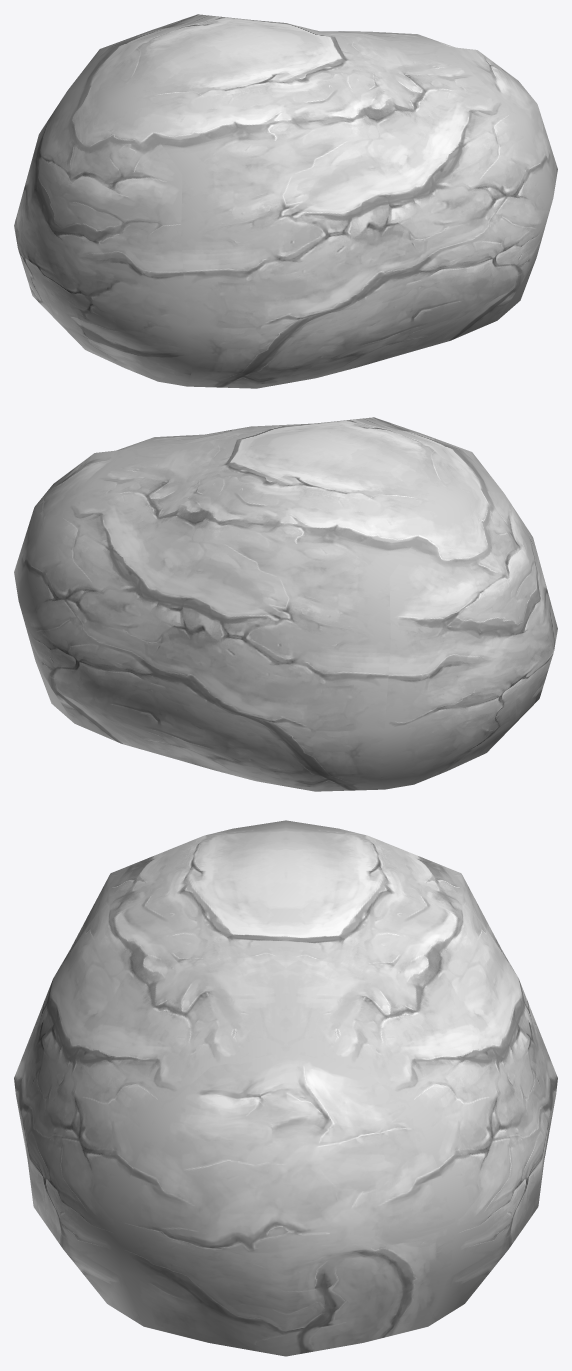
File: RockBig_A.fbx
3 views of the same model, one above another, from view 1: azimuth 30°, elevation 25°; view 2: azimuth 150°, elevation 25°; view 3: azimuth 270°, elevation 25° (orthographic). The views are drawn at different scales.
Visible parts, largest first — view 1: RockBig_A_LOD0; view 2: RockBig_A_LOD0; view 3: RockBig_A_LOD0.
Part boxes in pixels (x1=…): RockBig_A_LOD0: x1=14, y1=14, x2=557, y2=388; RockBig_A_LOD0: x1=14, y1=417, x2=557, y2=791; RockBig_A_LOD0: x1=14, y1=820, x2=557, y2=1356.
Size of what is drawn, in the model's own units: 6.7 by 3.51 by 5.21.
